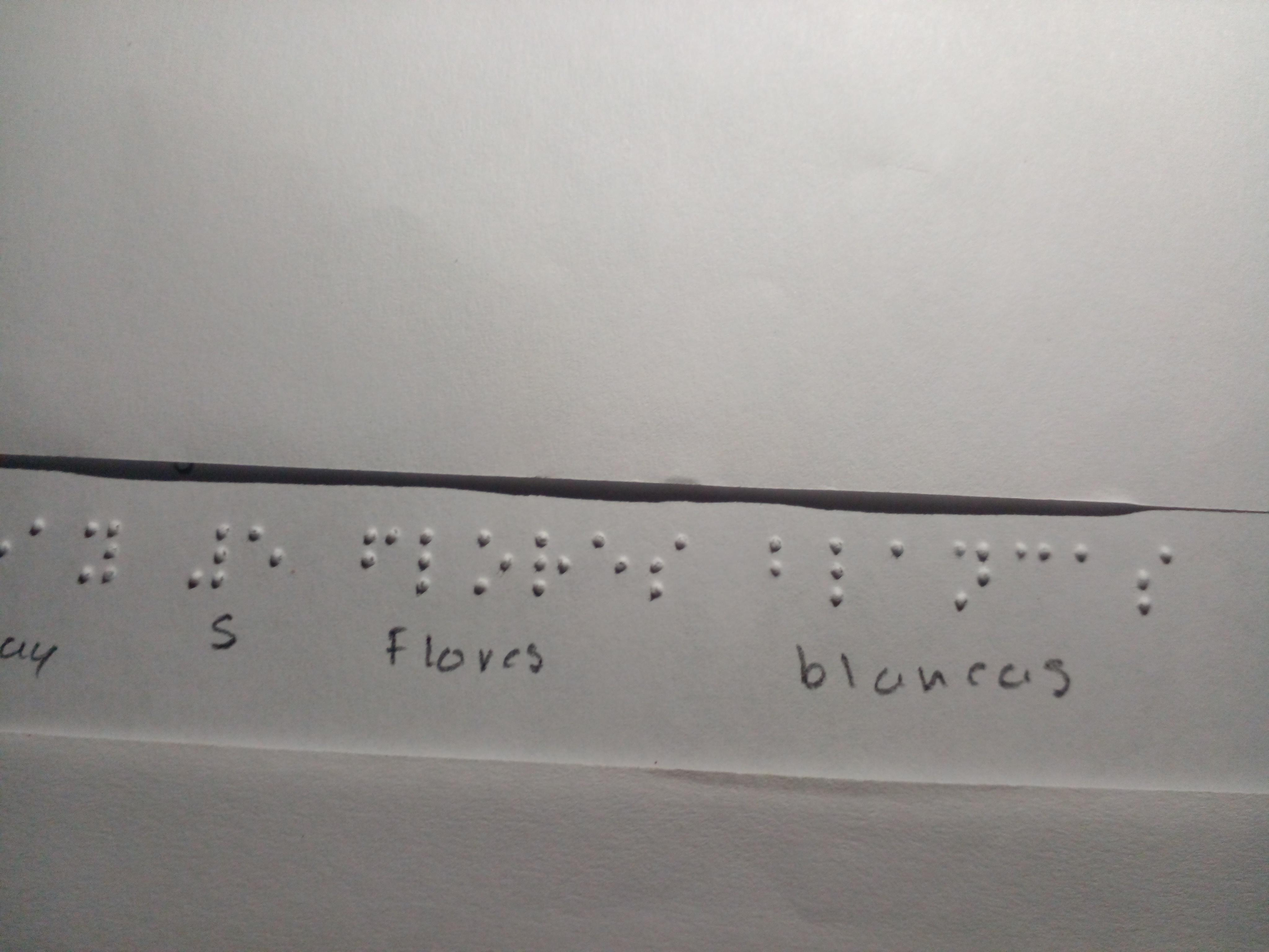05: (183, 507, 290, 592)
a: (875, 525, 916, 575), (28, 504, 59, 547), (1064, 536, 1092, 576)
b: (759, 524, 795, 586)
c: (1013, 528, 1058, 580)
e: (584, 521, 632, 593)
f: (355, 514, 403, 593)
l: (816, 535, 864, 614), (411, 513, 441, 610)
n: (942, 533, 998, 620)
o: (466, 521, 517, 601)
r: (525, 524, 573, 603)
s: (1120, 533, 1180, 624), (638, 524, 696, 615)
y: (73, 513, 127, 601)
